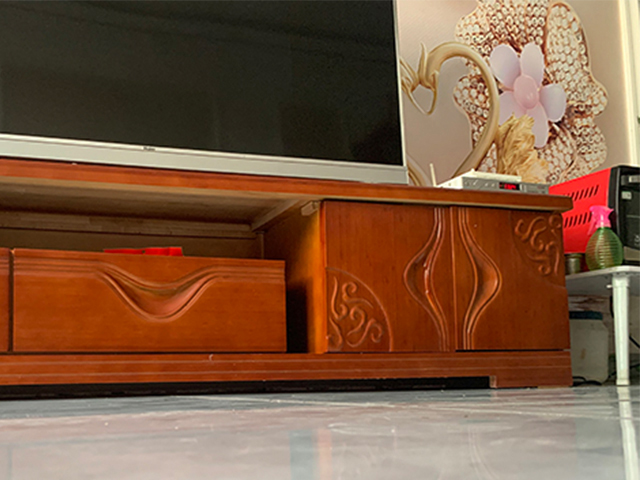cabinet: (1, 155, 573, 390)
